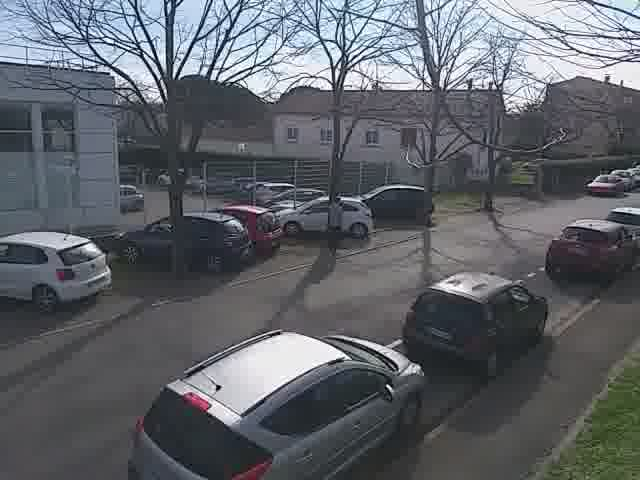persona: (320, 188, 350, 259)
